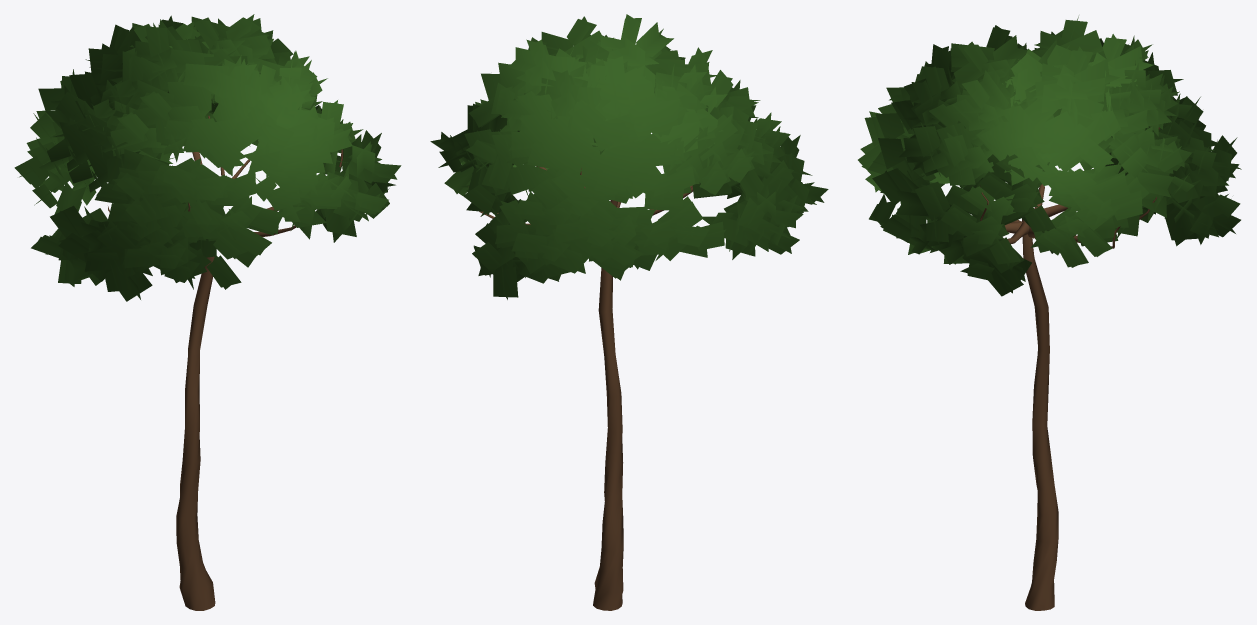
The model's file is SM_tree_jungle_04.fbx.
The picture shows the model from 3 angles, left to right: view 1: azimuth 30°, elevation 25°; view 2: azimuth 150°, elevation 25°; view 3: azimuth 270°, elevation 25°; orthographic projection.
Parts seen in each view (by area): view 1: tree022; view 2: tree022; view 3: tree022.
Part boxes in pixels (x1,y1,x2,y2): tree022: (14,14,401,610); tree022: (430,14,828,610); tree022: (858,16,1241,610).
Bounding box in the file's own units: 228 × 367 × 223.
